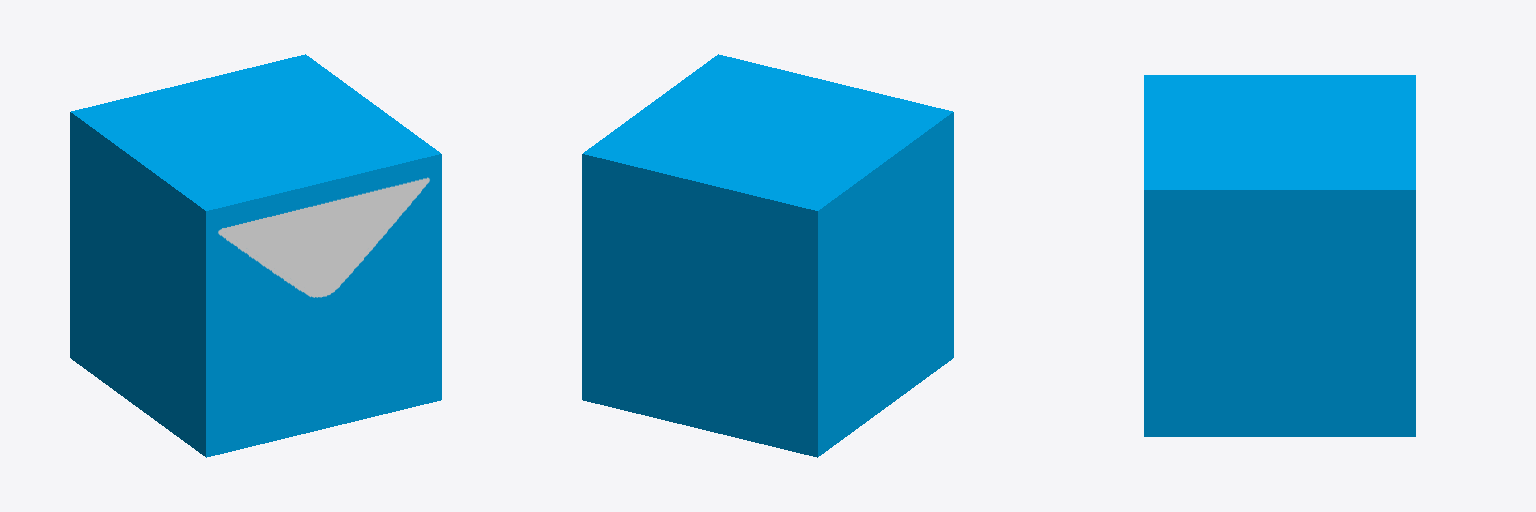
3 renders of one model, left to right at view 1: azimuth 30°, elevation 25°; view 2: azimuth 150°, elevation 25°; view 3: azimuth 270°, elevation 25°, orthographic.
Parts seen in each view (by area): view 1: Cube_Cube.001; view 2: Cube_Cube.001; view 3: Cube_Cube.001.
Boxes of the visible parts, <box> form: Cube_Cube.001: <box>70,54,441,457</box>; Cube_Cube.001: <box>582,54,953,457</box>; Cube_Cube.001: <box>1144,75,1415,436</box>.
Size of the model in its own units: 1 by 1 by 1.
1 materials, 1 textured.